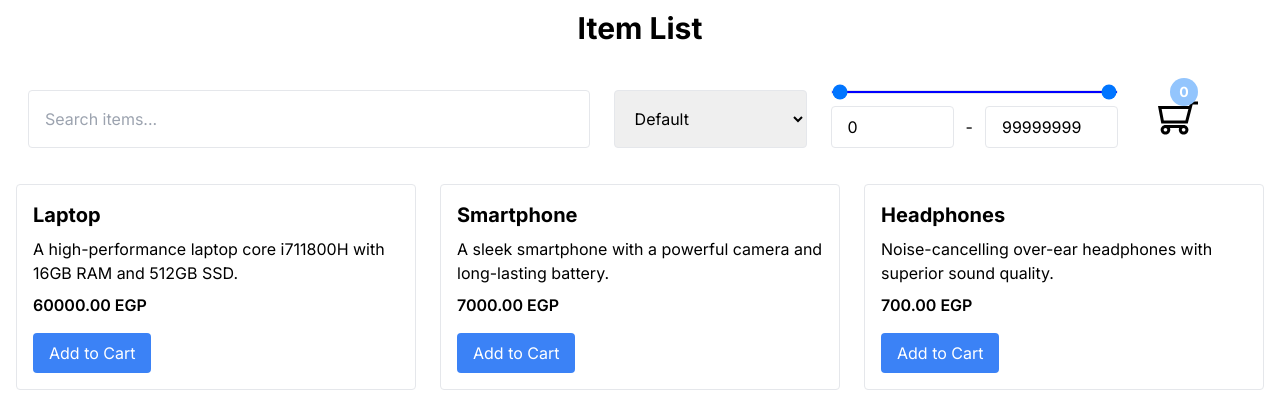
Test: Filter items by price range inputs
Replace the text in the 1st number field with placeholder "Min Price" with "700": (892, 127) [831,106,954,148]
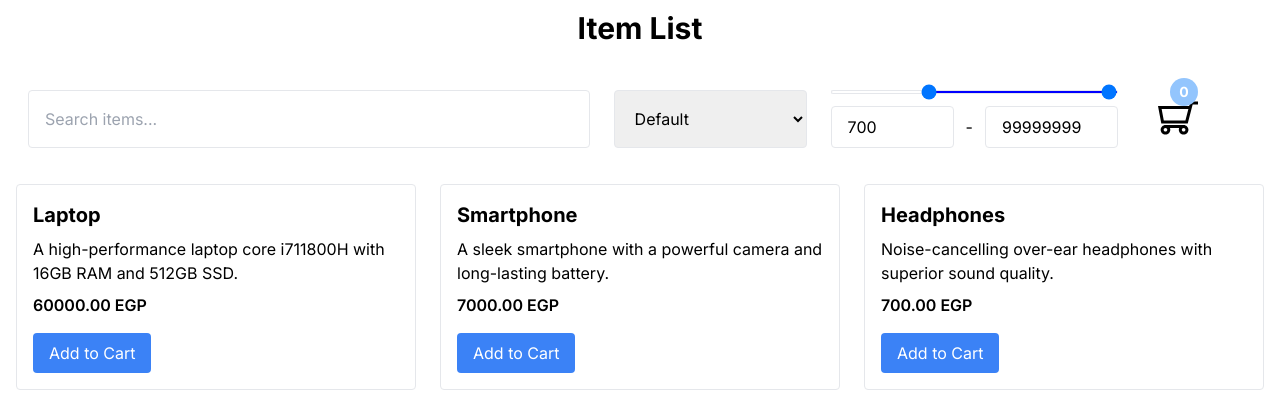
Replace the text in the 2nd number field with placeholder "Max Price" with "700": (1052, 127) [985,106,1118,148]
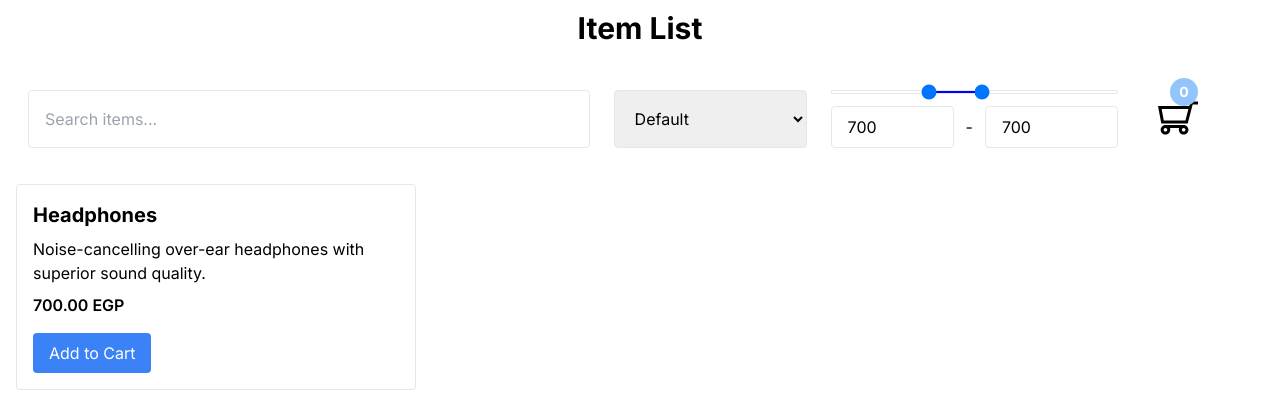
Check: the heading "Headphones" is shown, box [33,203,157,227]
Check: the heading "Smartphone" is gone
Check: the heading "Laptop" is gone
